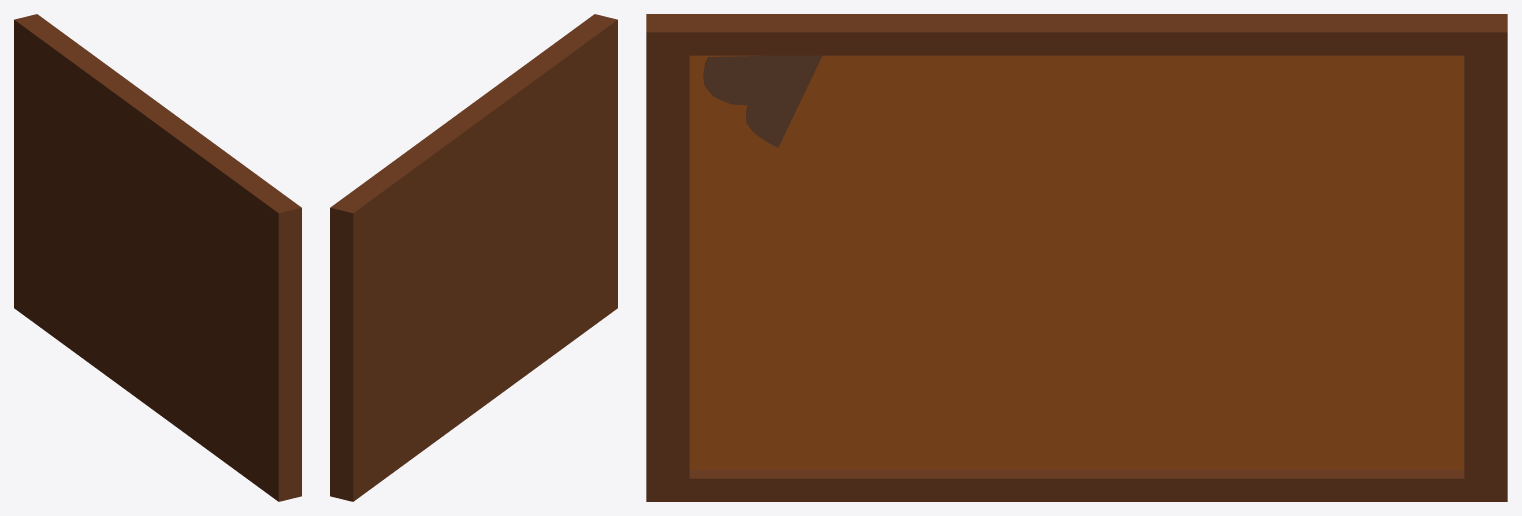
File: PanelRetocadoConIcono.fbx
3 views of the same model, side by side, from view 1: azimuth 30°, elevation 25°; view 2: azimuth 150°, elevation 25°; view 3: azimuth 270°, elevation 25° (orthographic). The views are drawn at different scales.
Parts seen in each view (by area): view 1: Cube; view 2: Cube; view 3: Cube.
Part boxes in pixels (x1,y1,x2,y2): Cube: [14, 14, 301, 501]; Cube: [330, 14, 617, 501]; Cube: [646, 14, 1507, 501].
Size of the model in its own units: 82.11 by 980 by 1629.
